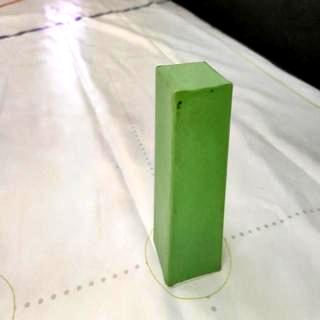greenbox: (152, 60, 234, 288)
